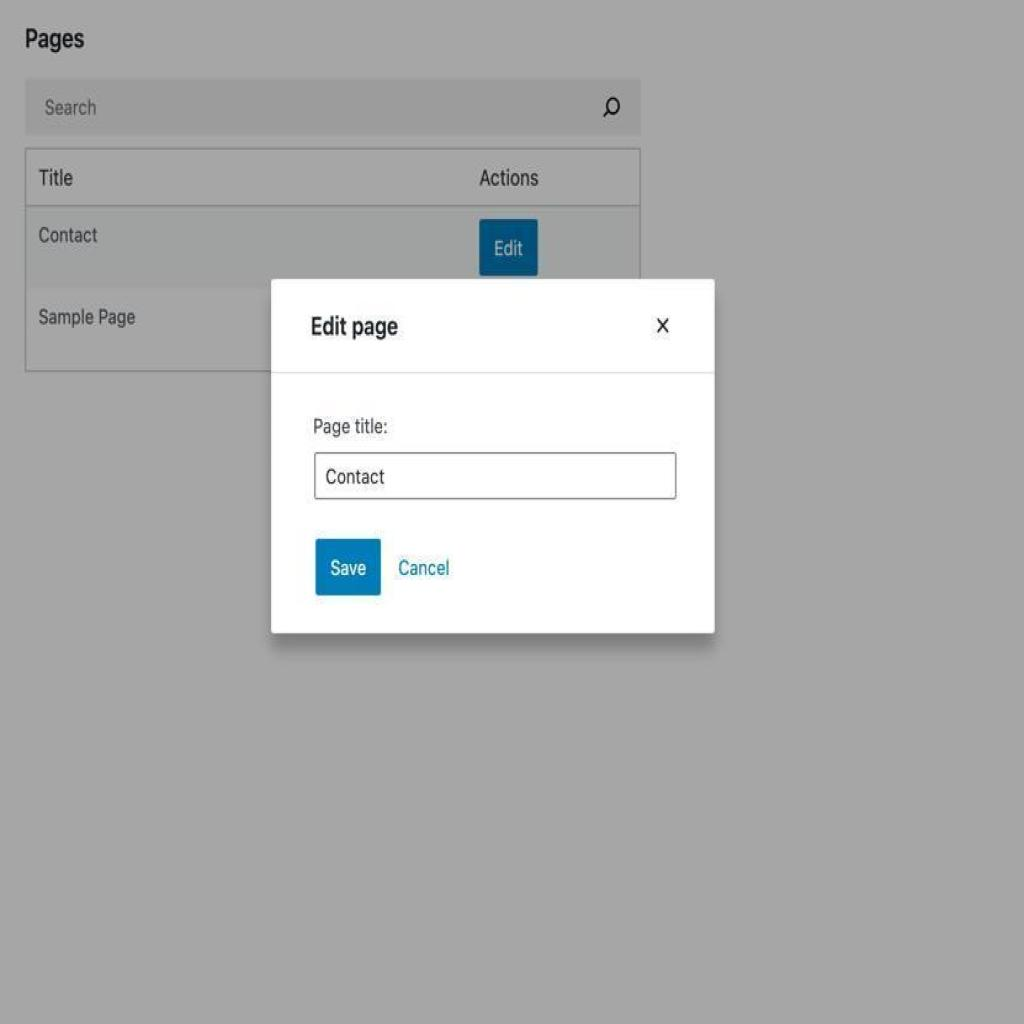button: (481, 214, 541, 279), (316, 540, 384, 596), (394, 545, 456, 594)
icon: (650, 307, 678, 342)
input: (28, 79, 642, 132), (313, 450, 675, 498)
label: (38, 302, 138, 336), (309, 312, 402, 343), (312, 411, 388, 443), (33, 224, 105, 252)
